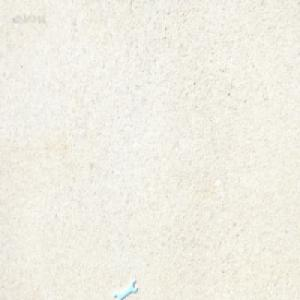Wrench: (113, 278, 138, 299)
